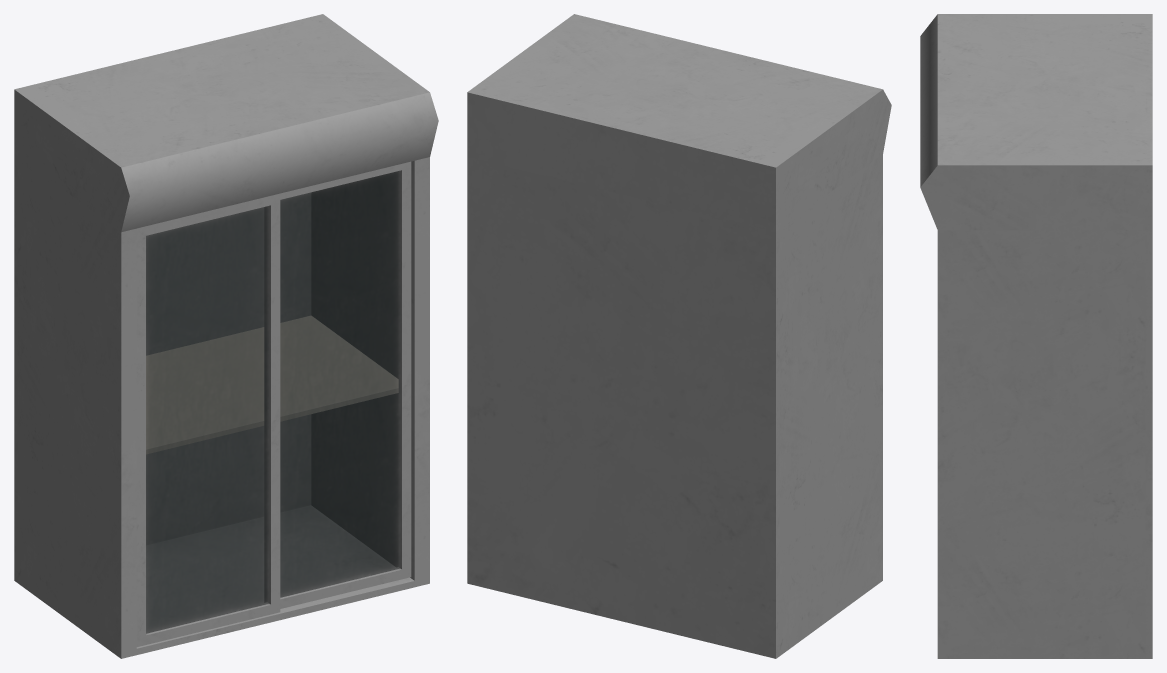
The model's file is KitchenCabinet_D.FBX.
3 renders of one model, left to right at view 1: azimuth 30°, elevation 25°; view 2: azimuth 150°, elevation 25°; view 3: azimuth 270°, elevation 25°, orthographic.
Visible parts, largest first — view 1: KitchenCabinet_D, Door_L_glass, Door_R_glass, Door_L, Door_R; view 2: KitchenCabinet_D; view 3: KitchenCabinet_D.
Boxes of the visible parts, x1,y1,x2,y2 form: KitchenCabinet_D: (14,14,438,658); Door_L_glass: (146,206,269,633); Door_R_glass: (280,170,400,597); Door_L: (136,193,280,646); Door_R: (264,161,411,608); KitchenCabinet_D: (467,14,891,658); KitchenCabinet_D: (920,14,1152,658).
Size of the model in its own units: 100 by 152 by 64.86.
